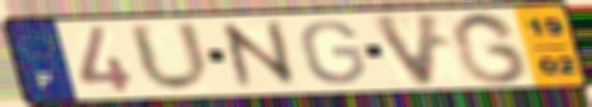4: (74, 22, 138, 96)
G: (448, 9, 533, 86), (297, 19, 370, 87)
N: (214, 17, 305, 92)
U: (123, 19, 216, 95)
V: (366, 11, 446, 89)
